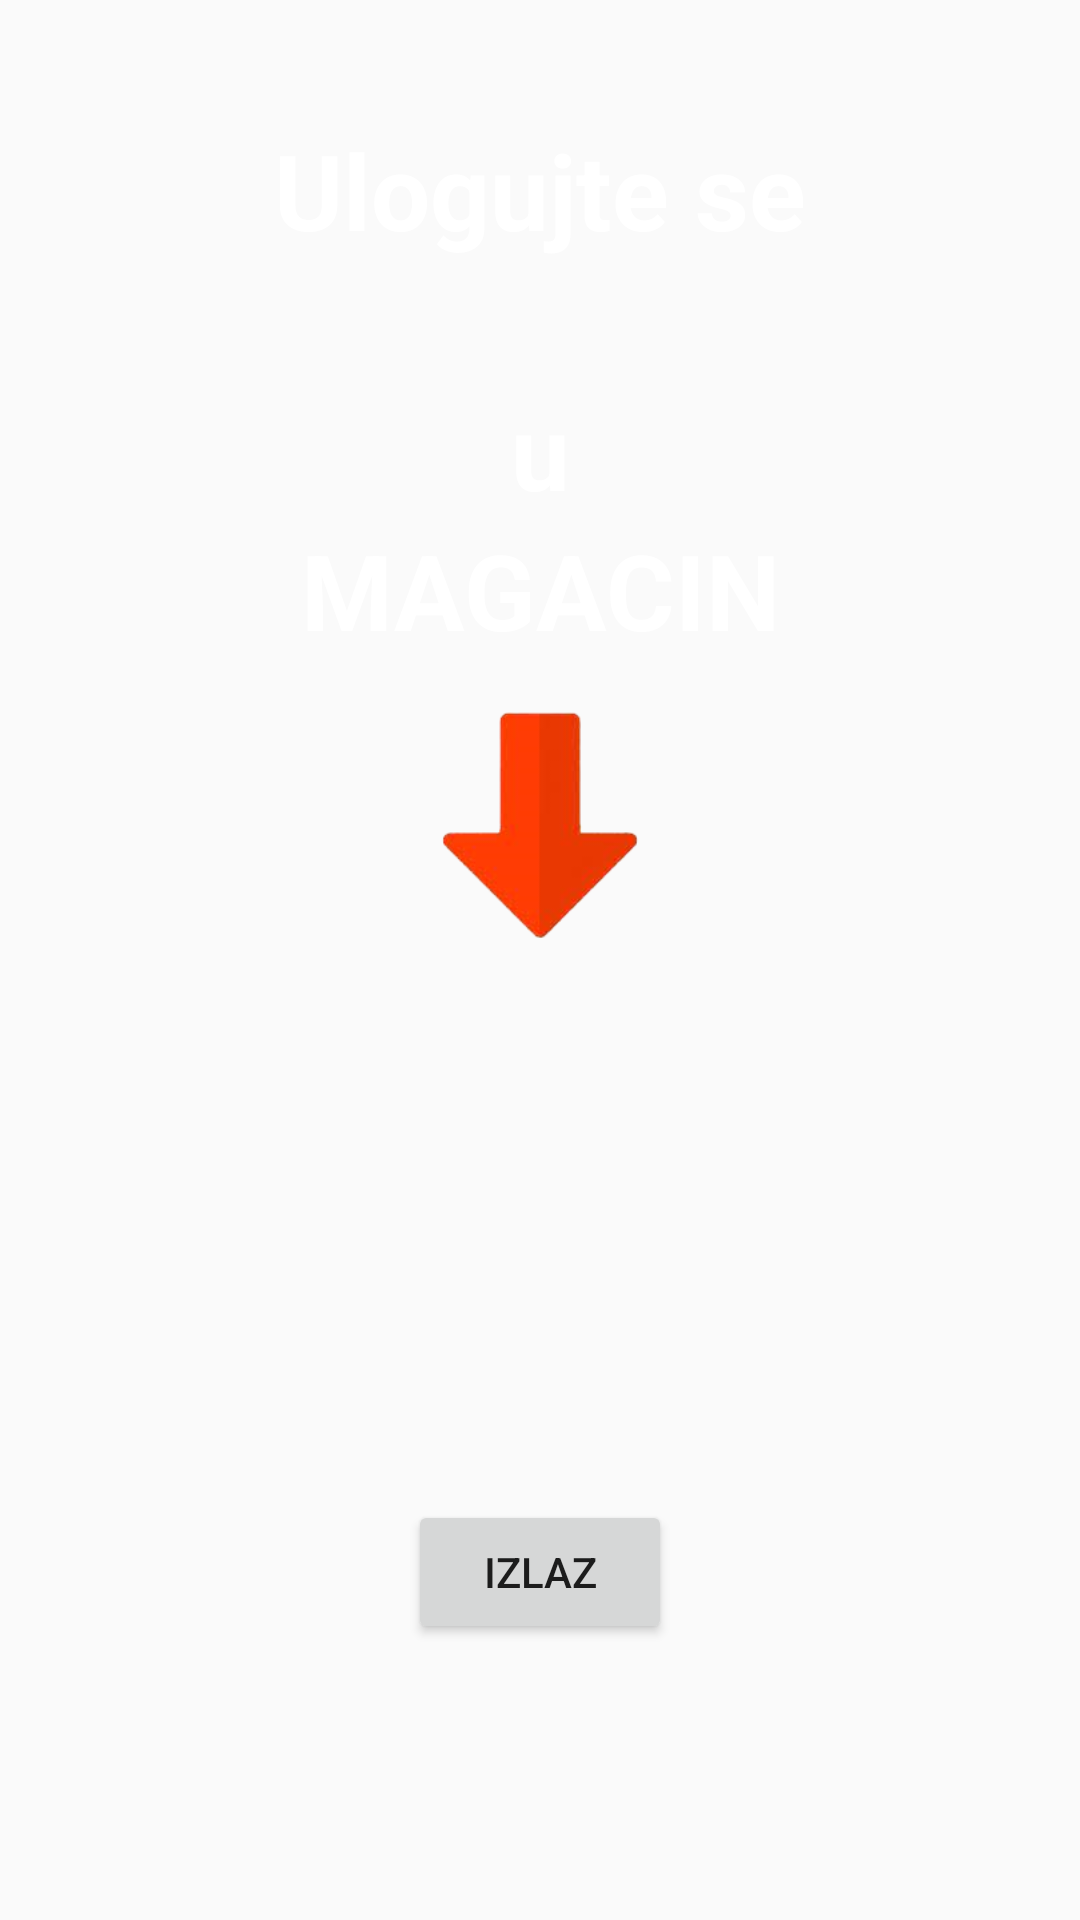

Icon bounding boxes for this 1080 x 1920 phone screenshot, format (x1, y1, x2, y2):
strelica: (443, 712, 638, 938)
